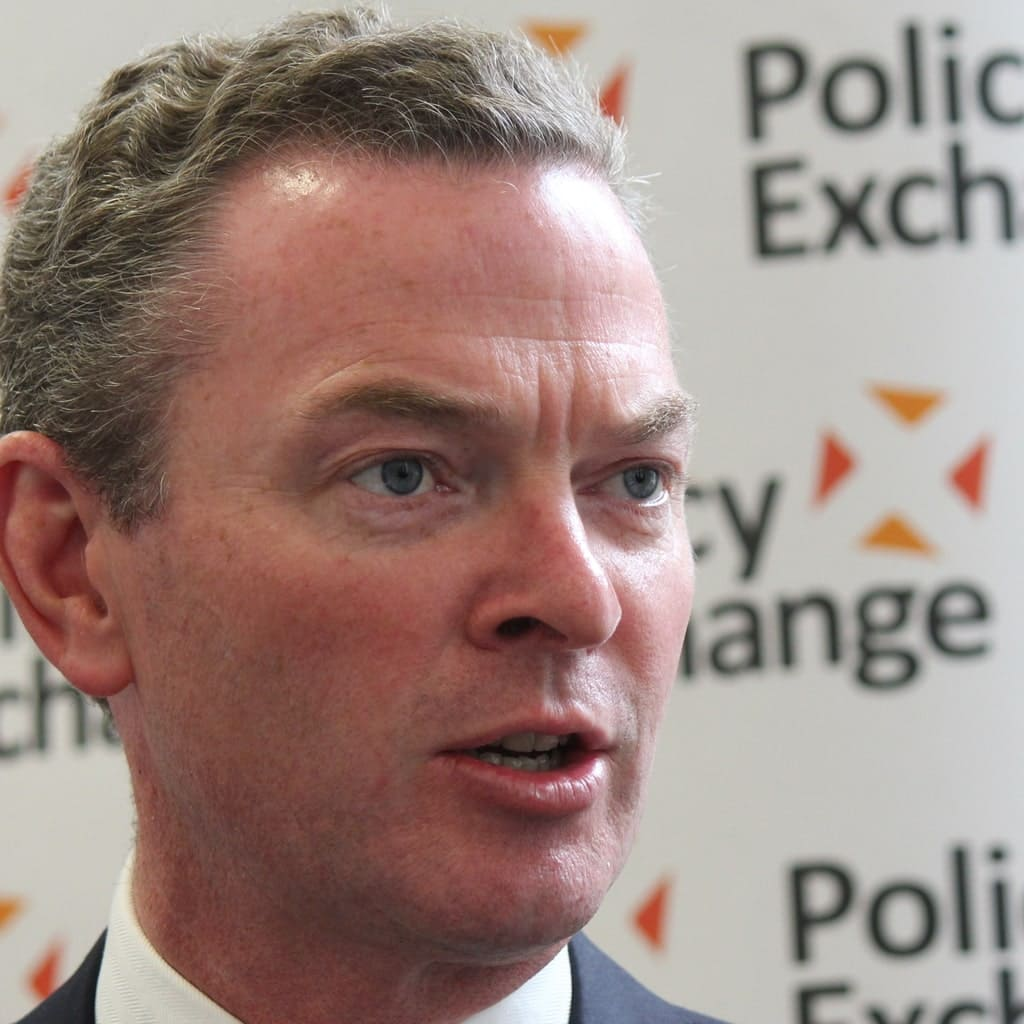without_mask: (229, 206, 685, 916)
